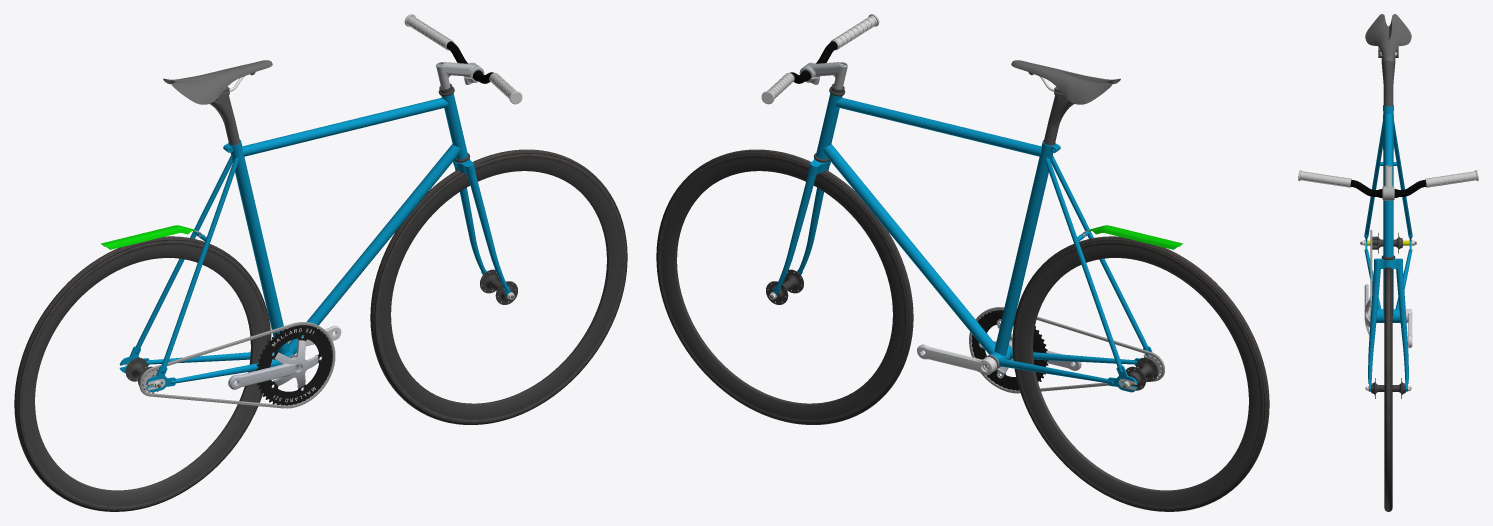
The model's file is bike_assembly.gltf.
3 views of the same model, side by side, from view 1: azimuth 30°, elevation 25°; view 2: azimuth 150°, elevation 25°; view 3: azimuth 270°, elevation 25° (orthographic). The views are drawn at different scales.
Visible parts, largest first — view 1: 700c Road Bike Tire-1, Rear-1, Pista-1, Corona-1, bike seat-1, Crankset-1, Chain-1, Pipa-1, Reggisella-1; view 2: 700c Road Bike Tire-1, Rear-1, Pista-1, bike seat-1, Corona-1, Chain-1, Crankset_1-1, Pipa-1, Reggisella-1; view 3: Pista-1, 700c Road Bike Tire-1, bike seat-1, Reggisella-1, Riser 25.4-1, Ma-1, Ma-2, Pipa-1, Rear-1, Crankset-1, Chain-1, Crankset_1-1.
Part boxes in pixels (left/top/right/bottom): 700c Road Bike Tire-1: left=370, top=149, right=627, bottom=424; Rear-1: left=14, top=236, right=271, bottom=511; Pista-1: left=101, top=83, right=511, bottom=392; Corona-1: left=256, top=325, right=332, bottom=405; bike seat-1: left=163, top=60, right=272, bottom=104; Crankset-1: left=228, top=335, right=322, bottom=390; Chain-1: left=139, top=322, right=335, bottom=408; Pipa-1: left=436, top=62, right=484, bottom=89; Reggisella-1: left=209, top=86, right=240, bottom=145; 700c Road Bike Tire-1: left=656, top=149, right=913, bottom=424; Rear-1: left=1012, top=236, right=1269, bottom=511; Pista-1: left=772, top=83, right=1182, bottom=392; bike seat-1: left=1011, top=60, right=1120, bottom=104; Corona-1: left=971, top=310, right=1048, bottom=390; Chain-1: left=969, top=307, right=1164, bottom=393; Crankset_1-1: left=917, top=344, right=996, bottom=375; Pipa-1: left=799, top=62, right=847, bottom=89; Reggisella-1: left=1043, top=86, right=1074, bottom=145; Pista-1: left=1364, top=105, right=1412, bottom=391; 700c Road Bike Tire-1: left=1365, top=267, right=1411, bottom=511; bike seat-1: left=1365, top=14, right=1411, bottom=61; Reggisella-1: left=1378, top=47, right=1398, bottom=106; Riser 25.4-1: left=1350, top=180, right=1426, bottom=197; Ma-1: left=1425, top=170, right=1478, bottom=187; Ma-2: left=1298, top=170, right=1351, bottom=187; Pipa-1: left=1382, top=165, right=1394, bottom=200; Rear-1: left=1360, top=232, right=1416, bottom=253; Crankset-1: left=1364, top=284, right=1370, bottom=335; Chain-1: left=1370, top=230, right=1372, bottom=320; Crankset_1-1: left=1405, top=309, right=1412, bottom=347.
Size of the model in its own units: 1.67 by 1.1 by 0.5114.
26 materials, 2 textured.
